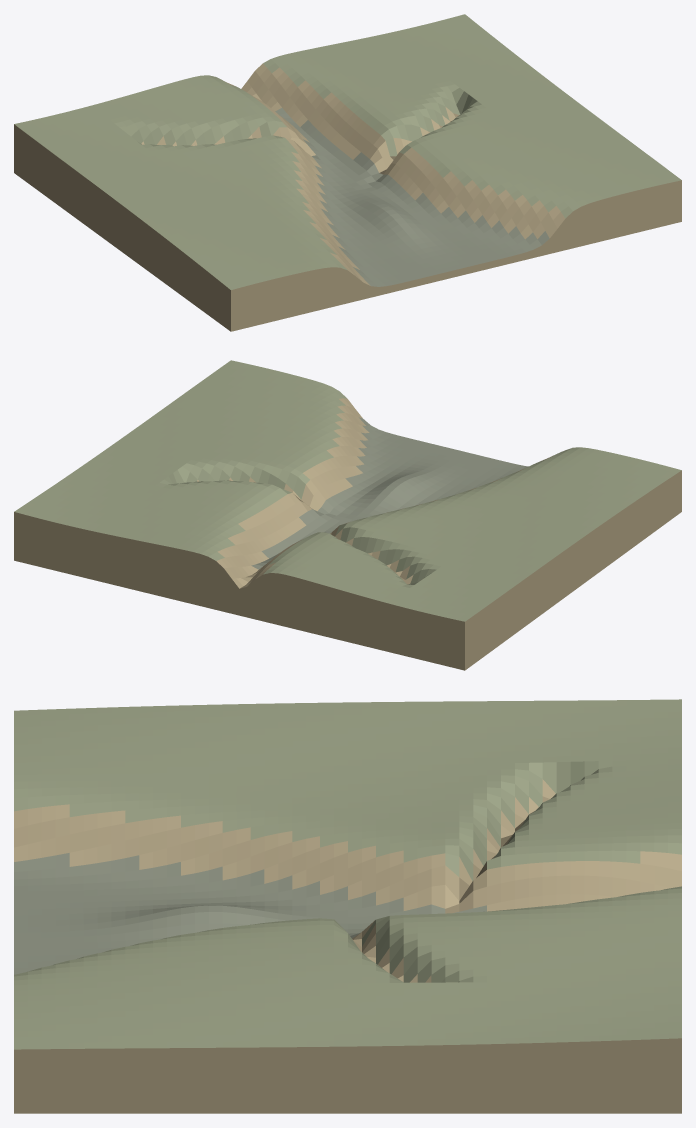
Rendered from estuary-basin.glb.
3 views of the same model, one above another, from view 1: azimuth 30°, elevation 25°; view 2: azimuth 150°, elevation 25°; view 3: azimuth 270°, elevation 25° (orthographic). The views are drawn at different scales.
Parts seen in each view (by area): view 1: continuous-estuary-land-and-bed-with-connected-widening-chan; view 2: continuous-estuary-land-and-bed-with-connected-widening-chan; view 3: continuous-estuary-land-and-bed-with-connected-widening-chan.
Boxes of the visible parts, x1=… form: continuous-estuary-land-and-bed-with-connected-widening-chan: x1=14, y1=14, x2=681, y2=331; continuous-estuary-land-and-bed-with-connected-widening-chan: x1=14, y1=360, x2=681, y2=670; continuous-estuary-land-and-bed-with-connected-widening-chan: x1=14, y1=699, x2=681, y2=1113.
Size of the model in its own units: 12 by 1.33 by 10.
